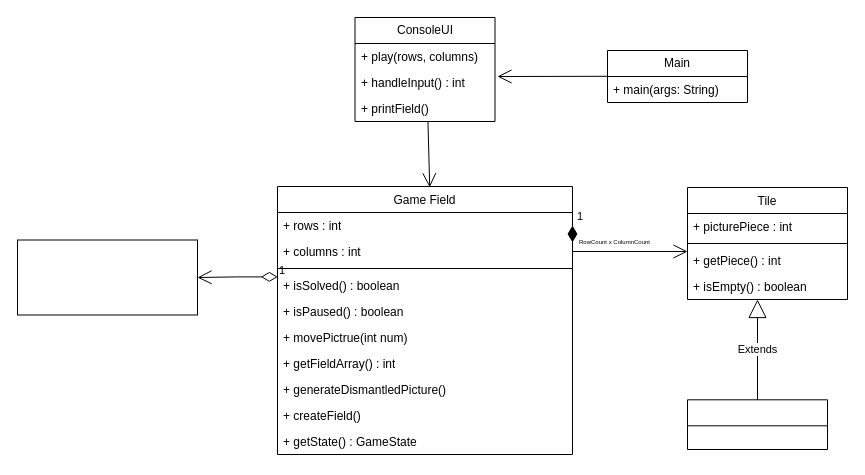
Image size: 865x475. Some labels were removed from this diagram. The centre of each missing label's shape, as x and y in pixels:
GameState <<enum>> PLAYING, SOLVED, PAUSED: pixel 107 277
Picture Piece: pixel 757 424
